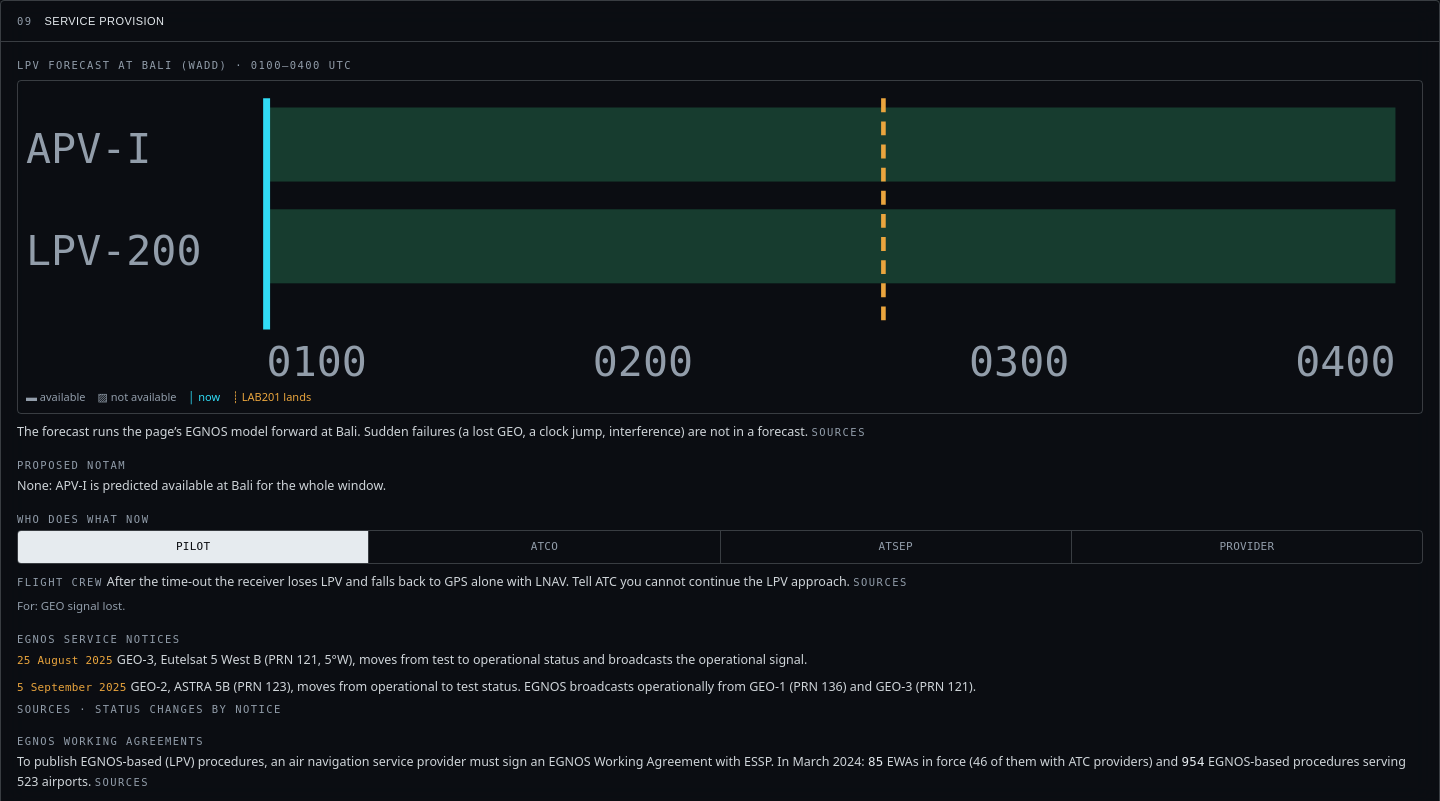
Test: Service provision (ESSP-SAS) › a sudden failure (a lost GEO) is not in the forecast, but changes what each role does
Check: the text "None: APV-I is predicted available" is shown, box top-left (17, 477), bottom-right (231, 494)
Check: the text "After the time-out the receiver loses LPV and falls back to GPS alone with LNAV. Tell ATC you cannot continue the LPV ap" is shown, box top-left (107, 573), bottom-right (850, 590)
Click the radio button with aria-label "Air traffic controller" at (544, 547), box top-left (368, 531), bottom-right (720, 563)
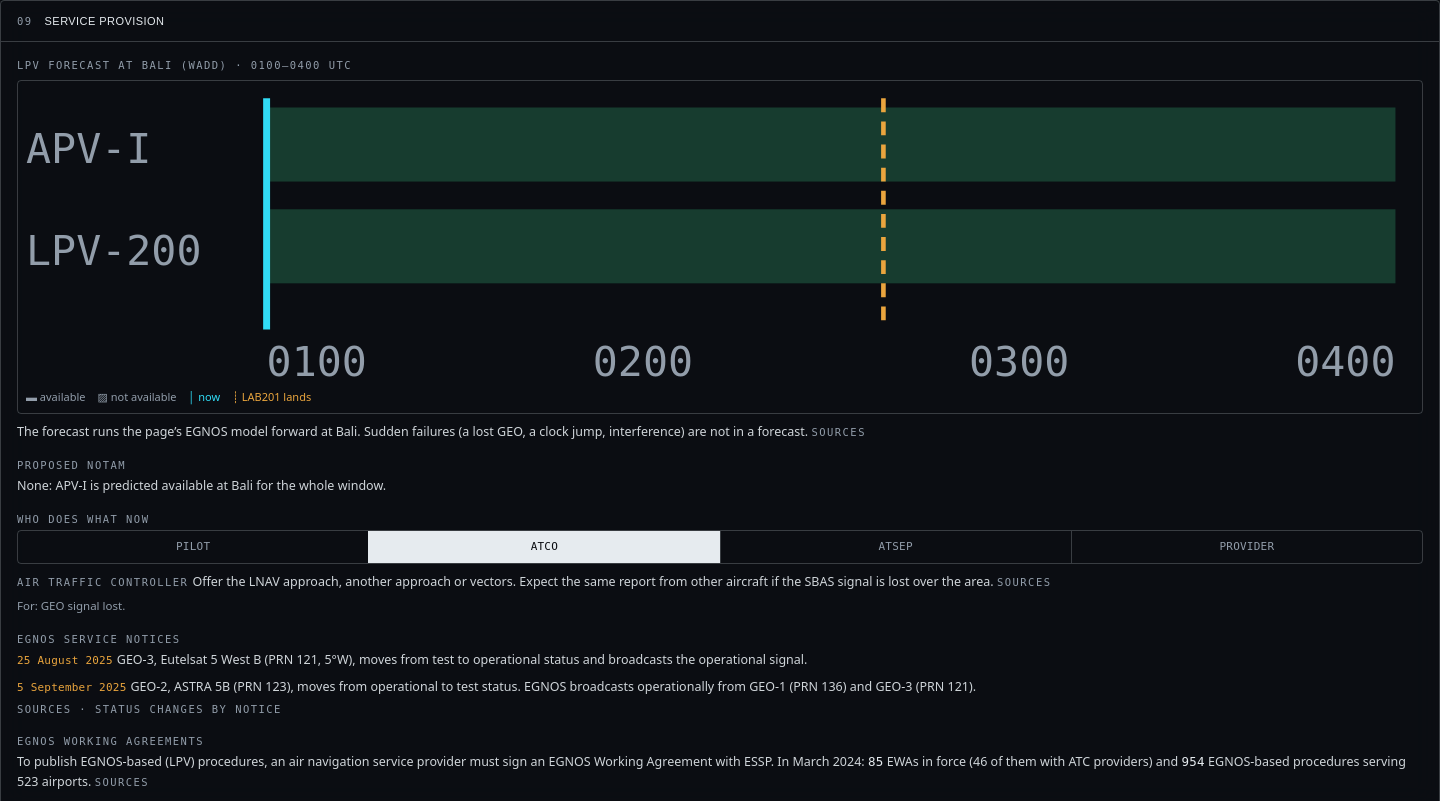
Check: the text "Offer the LNAV approach, another approach or vectors. Expect the same report from other aircraft if the SBAS signal is l" is shown, box top-left (192, 573), bottom-right (994, 590)
Click the radio button with aria-label "SBAS service provider (ESSP for EGNOS)" at (1246, 547), box top-left (1071, 531), bottom-right (1422, 563)
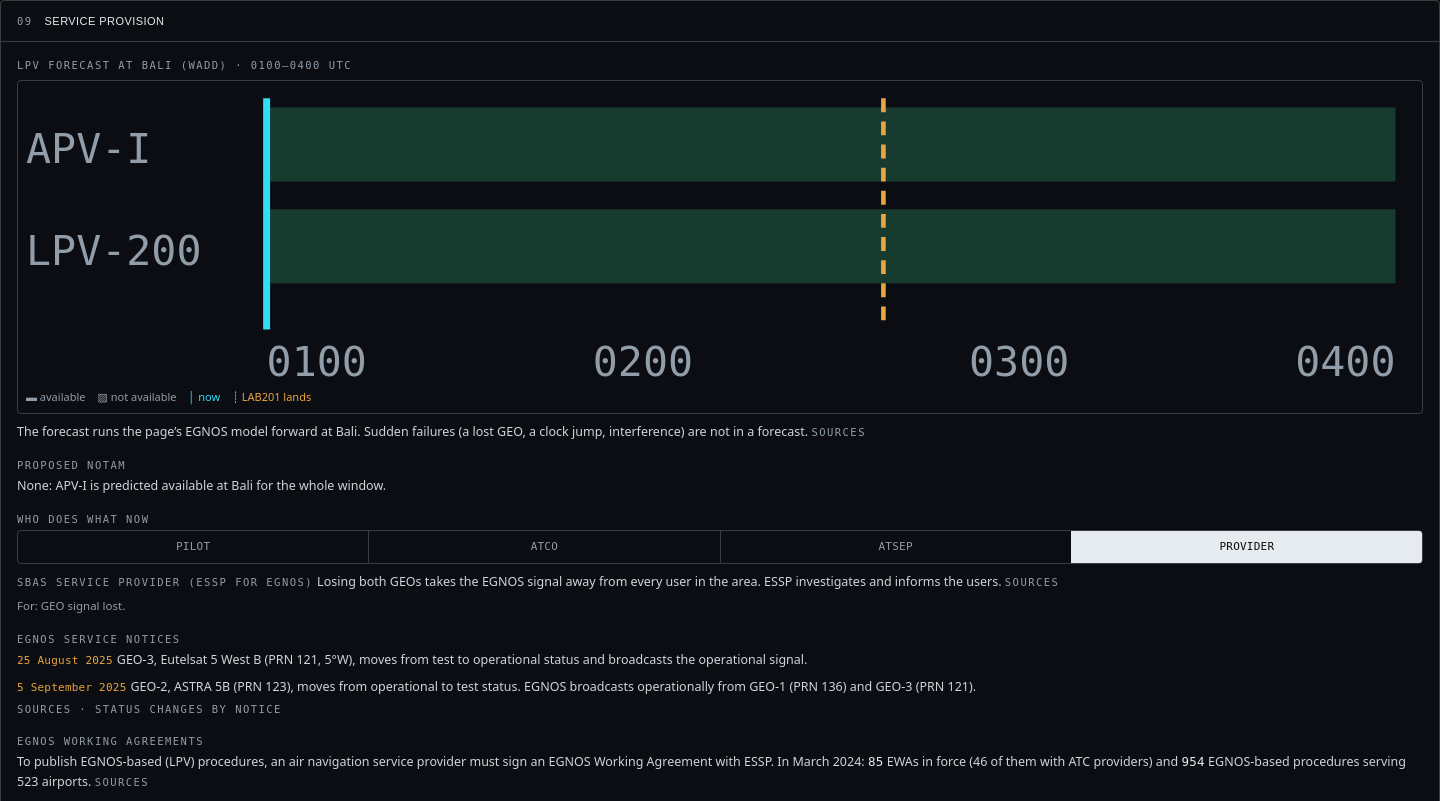
Check: the text "Losing both GEOs takes the EGNOS signal away from every user in the area. ESSP investigates and informs the users." is shown, box top-left (317, 573), bottom-right (1002, 590)
